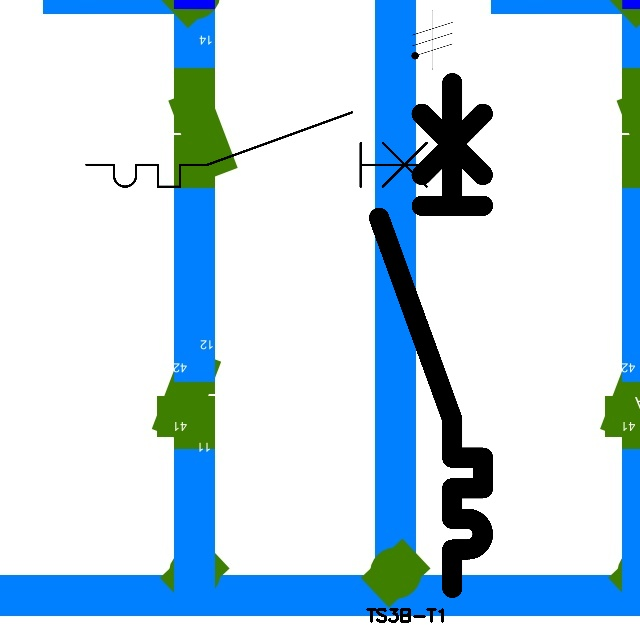interruptor_termomagnetico: (366, 70, 496, 601), (77, 103, 458, 196)
